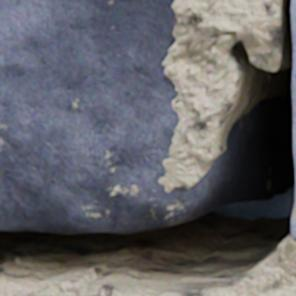brick: (0, 0, 179, 229), (291, 0, 295, 178), (291, 192, 295, 239)
crack: (0, 0, 295, 295)
